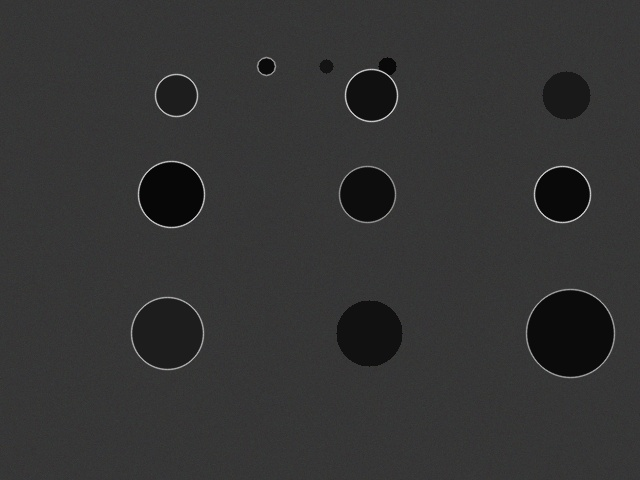hole: (526, 289, 614, 377), (131, 297, 203, 369), (138, 161, 204, 227), (336, 300, 402, 366), (339, 166, 395, 222), (534, 166, 590, 222), (345, 69, 397, 121), (542, 71, 590, 119), (155, 74, 197, 116), (257, 57, 275, 75), (378, 57, 396, 75), (319, 59, 333, 73)
